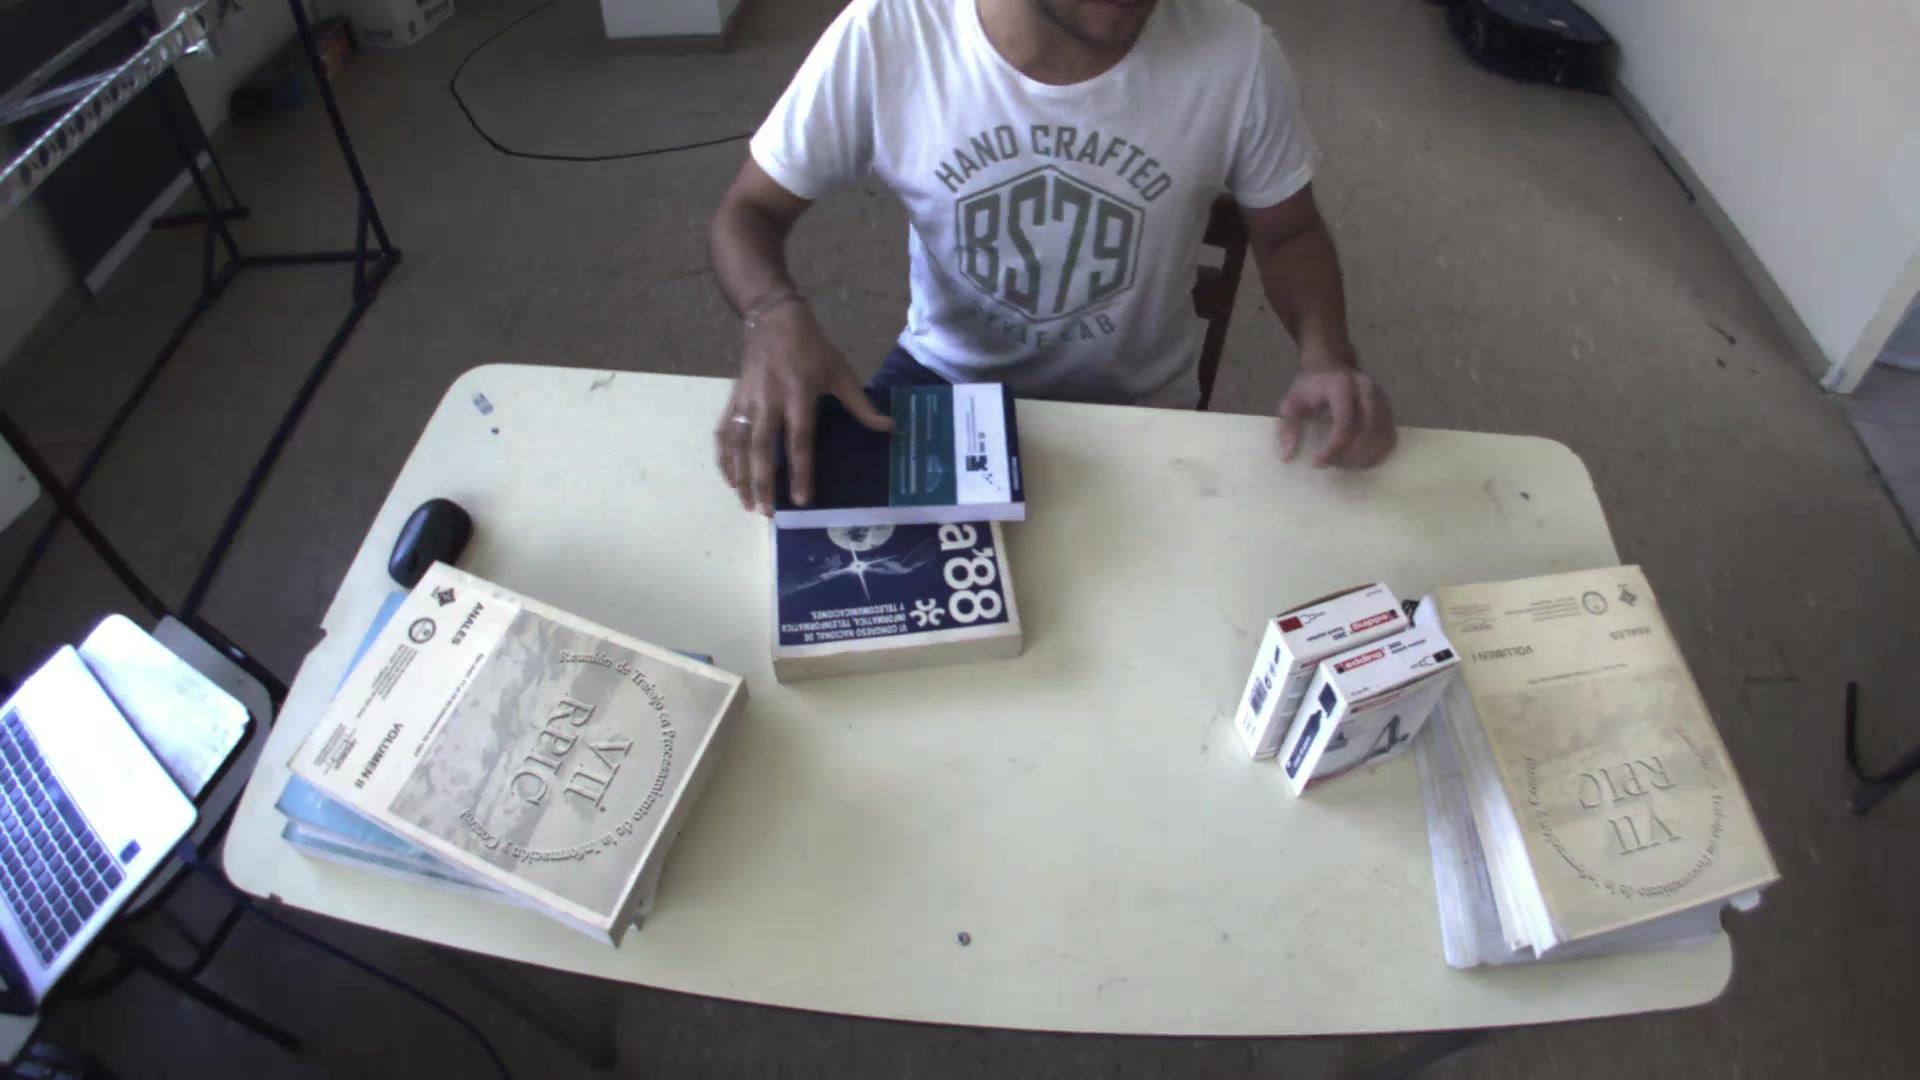hand: (698, 293, 898, 517), (1273, 349, 1414, 473)
